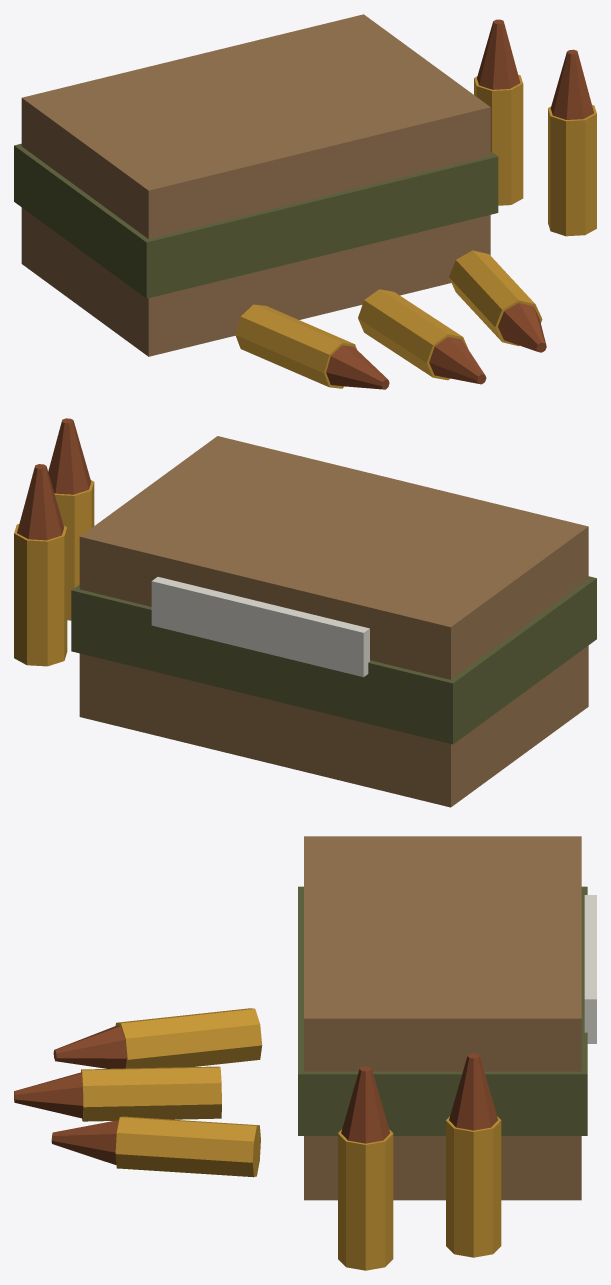
File: ammo_556.glb
3 views of the same model, one above another, from view 1: azimuth 30°, elevation 25°; view 2: azimuth 150°, elevation 25°; view 3: azimuth 270°, elevation 25° (orthographic). The views are drawn at different scales.
Visible parts, largest first — view 1: ammo_556; view 2: ammo_556; view 3: ammo_556.
Part boxes in pixels (box(x1,y1,x2,y2)): ammo_556: box(14, 14, 596, 389); ammo_556: box(14, 418, 596, 807); ammo_556: box(14, 836, 596, 1270).
Size of the model in its own units: 0.196 by 0.068 by 0.189.
Materials: 2 (2 with a texture image).
